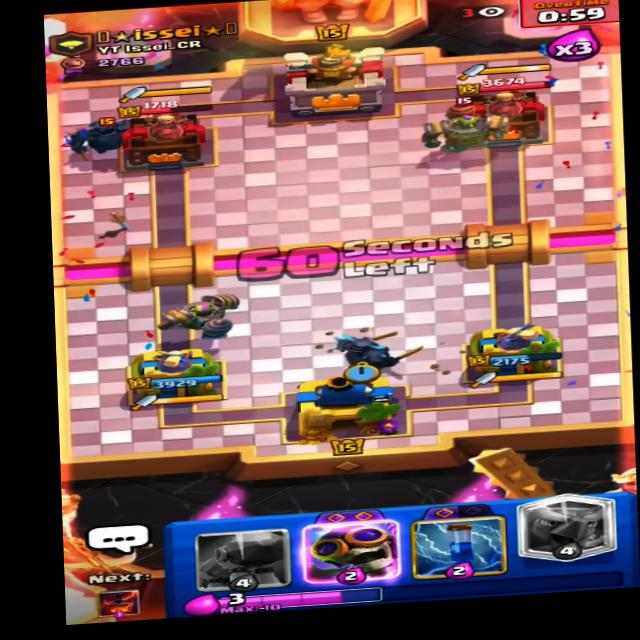Goblinmachine: (416, 92, 526, 154)
Pekka: (64, 107, 145, 154)
